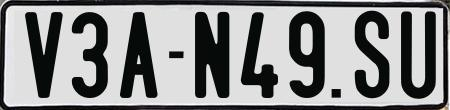3: (71, 11, 111, 103)
4: (241, 10, 284, 100)
9: (286, 10, 324, 103)
A: (118, 10, 157, 102)
N: (192, 11, 230, 101)
S: (355, 8, 396, 98)
U: (400, 8, 437, 102)
V: (22, 12, 66, 99)
